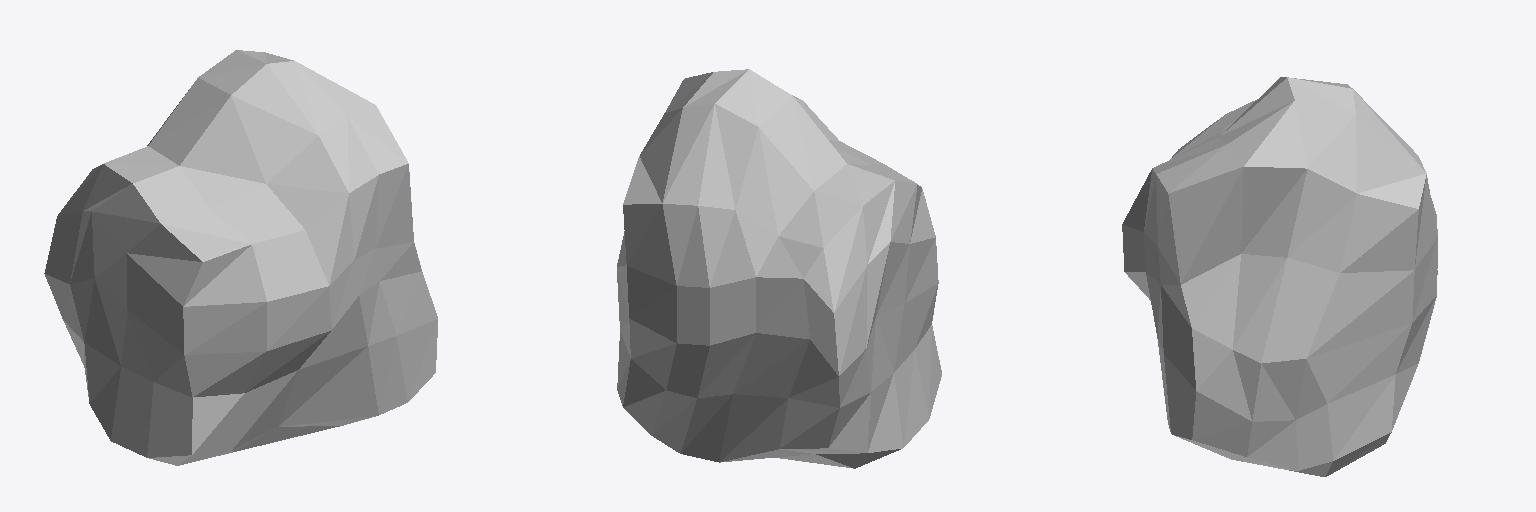
File: monolith_07.obj
3 views of the same model, side by side, from view 1: azimuth 30°, elevation 25°; view 2: azimuth 150°, elevation 25°; view 3: azimuth 270°, elevation 25° (orthographic).
Visible parts, largest first — view 1: Cube_Cube; view 2: Cube_Cube; view 3: Cube_Cube.
Boxes of the visible parts, box(x1,y1,x2,y2) form: Cube_Cube: box(44, 50, 437, 465); Cube_Cube: box(617, 69, 941, 468); Cube_Cube: box(1122, 77, 1437, 476).
Bounding box in the file's own units: 406 × 503 × 387.